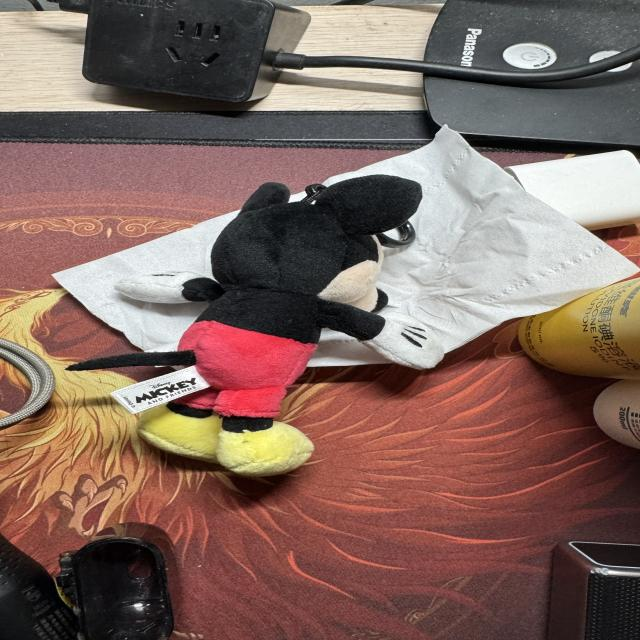mickey: (69, 175, 443, 475)
tissue: (326, 128, 637, 352), (506, 151, 639, 229)
